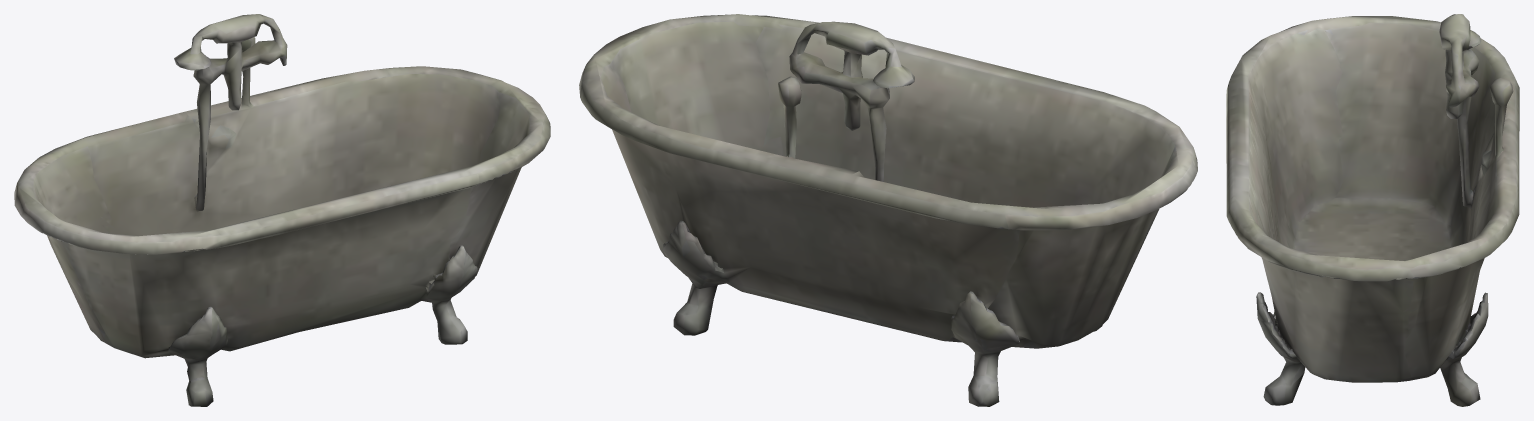
File: chipped-white-painted-bathtub-v001.glb
3 renders of one model, left to right at view 1: azimuth 30°, elevation 25°; view 2: azimuth 150°, elevation 25°; view 3: azimuth 270°, elevation 25°, orthographic. The views are drawn at different scales.
Visible parts, largest first — view 1: chipped-white-painted-bathtub; view 2: chipped-white-painted-bathtub; view 3: chipped-white-painted-bathtub.
Part boxes in pixels (x1=…): chipped-white-painted-bathtub: x1=14, y1=14, x2=550, y2=406; chipped-white-painted-bathtub: x1=579, y1=14, x2=1197, y2=406; chipped-white-painted-bathtub: x1=1226, y1=14, x2=1519, y2=406.
Bounding box in the file's own units: 1.26 × 0.7086 × 0.6108.
1 material, 1 textured.
